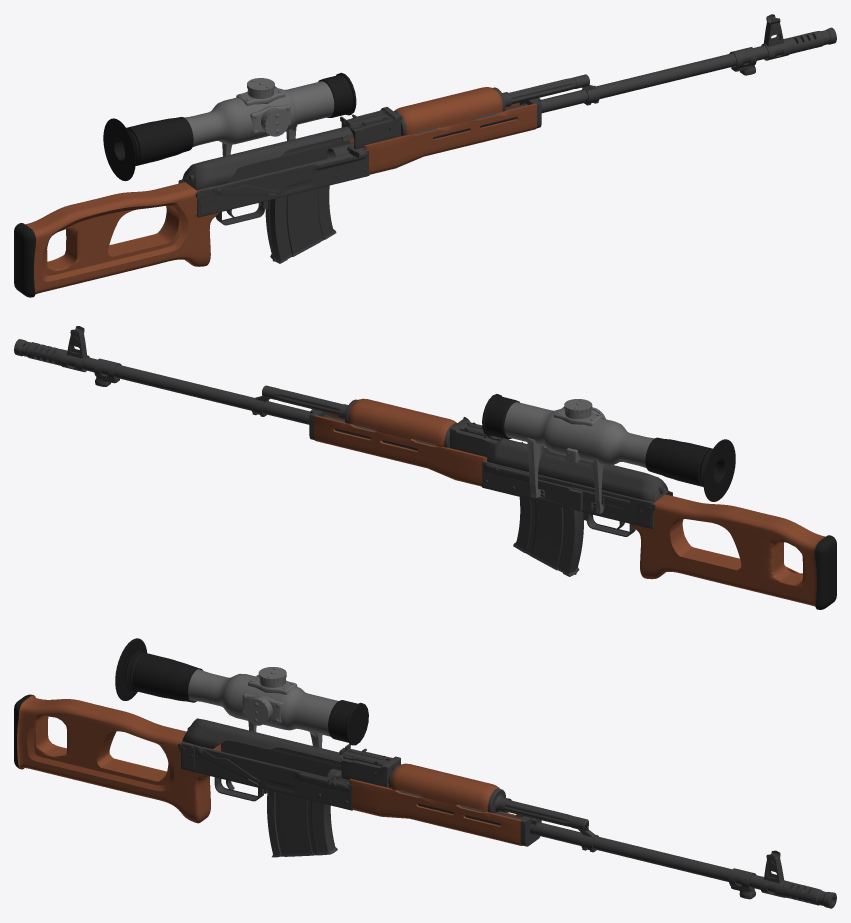
Rendered from kannas1.FBX.
3 renders of one model, top to bottom at view 1: azimuth 30°, elevation 25°; view 2: azimuth 150°, elevation 25°; view 3: azimuth 330°, elevation 25°, orthographic.
Visible parts, largest first — view 1: ChamferBox08, ChamferBox04, ChamferBox01, Cylinder01, Cylinder17, Rectangle02, Curve01, ChamferBox07, ChamferBox02, silah, ChamferBox05, Curve02 (+3 smaller); view 2: ChamferBox08, Cylinder17, ChamferBox01, Cylinder01, Rectangle02, Curve01, ChamferBox07, ChamferBox02, ChamferBox04, silah, Rectangle01, ChamferBox05 (+3 smaller); view 3: ChamferBox08, ChamferBox04, ChamferBox01, Cylinder01, Cylinder17, Rectangle02, Curve01, ChamferBox02, ChamferBox07, Curve02, ChamferBox05, Cylinder02 (+4 smaller).
Part boxes in pixels (<box>): ChamferBox08: <box>25,182,219,294</box>; ChamferBox04: <box>181,140,369,217</box>; ChamferBox01: <box>349,102,536,174</box>; Cylinder01: <box>327,27,836,158</box>; Cylinder17: <box>184,81,334,147</box>; Rectangle02: <box>265,185,336,263</box>; Curve01: <box>103,117,193,181</box>; ChamferBox07: <box>182,126,352,190</box>; ChamferBox02: <box>394,87,502,135</box>; silah: <box>14,223,35,297</box>; ChamferBox05: <box>341,107,400,149</box>; Curve02: <box>318,72,356,117</box>; ChamferBox08: <box>630,494,825,606</box>; Cylinder17: <box>504,402,654,468</box>; ChamferBox01: <box>314,414,487,486</box>; Cylinder01: <box>14,339,489,462</box>; Rectangle02: <box>513,497,583,576</box>; Curve01: <box>645,437,735,501</box>; ChamferBox07: <box>487,438,668,502</box>; ChamferBox02: <box>348,398,456,446</box>; ChamferBox04: <box>481,461,669,529</box>; silah: <box>815,535,836,609</box>; Rectangle01: <box>527,438,603,513</box>; ChamferBox05: <box>450,418,509,459</box>; ChamferBox08: <box>17,695,221,823</box>; ChamferBox04: <box>181,740,353,810</box>; ChamferBox01: <box>349,778,523,845</box>; Cylinder01: <box>327,768,836,908</box>; Cylinder17: <box>188,669,338,736</box>; Rectangle02: <box>267,790,337,857</box>; Curve01: <box>115,638,202,702</box>; ChamferBox02: <box>391,763,499,811</box>; ChamferBox07: <box>182,718,347,767</box>; Curve02: <box>328,700,368,745</box>; ChamferBox05: <box>341,752,400,787</box>; Cylinder02: <box>504,800,573,826</box>.
Bounding box in the file's own units: 1063 × 220 × 85.07.
